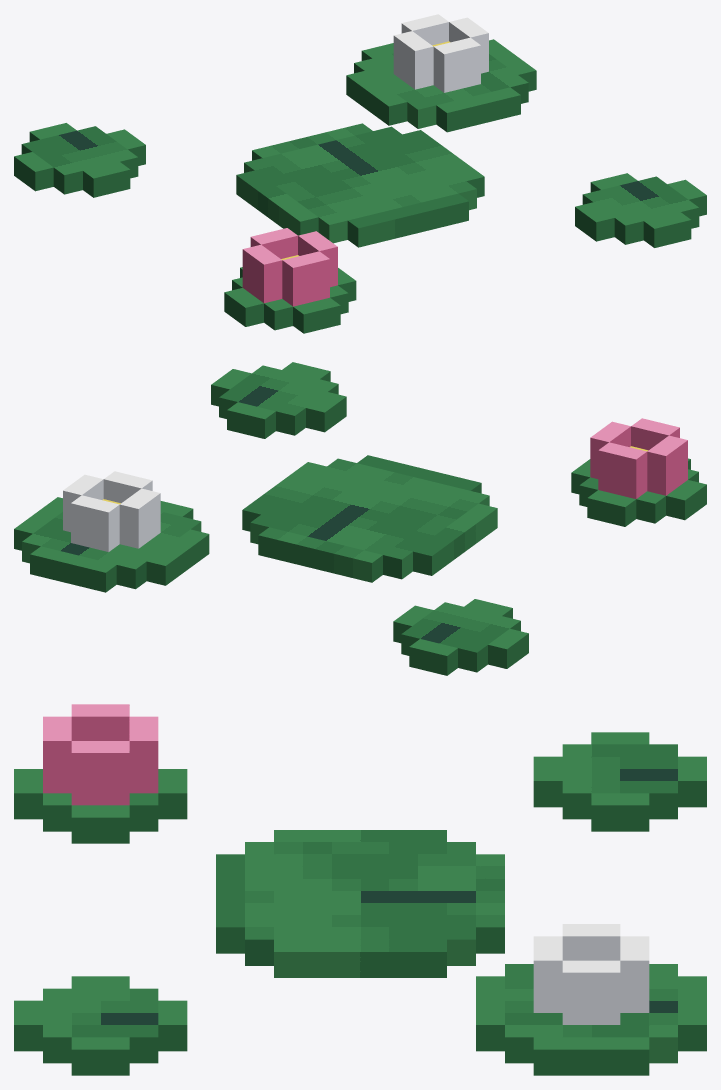
The model's file is lilies_0.glb.
3 renders of one model, top to bottom at view 1: azimuth 30°, elevation 25°; view 2: azimuth 150°, elevation 25°; view 3: azimuth 270°, elevation 25°, orthographic. The views are drawn at different scales.
Visible parts, largest first — view 1: body; view 2: body; view 3: body.
Part boxes in pixels (x1,y1,x2,y2): body: (14,14,706,333); body: (14,362,706,675); body: (14,704,706,1075).
Size of the model in its own units: 0.8125 by 0.0938 by 0.75.
1 material, 1 textured.
